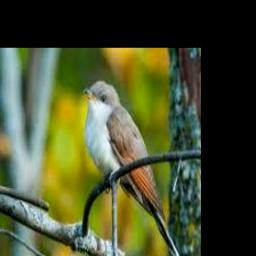Cuckoo: (84, 81, 188, 256)
